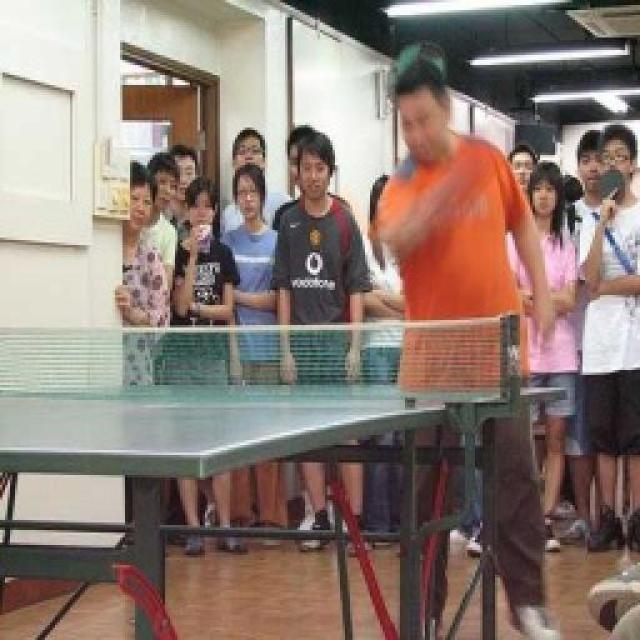oball: (310, 229, 321, 245)
